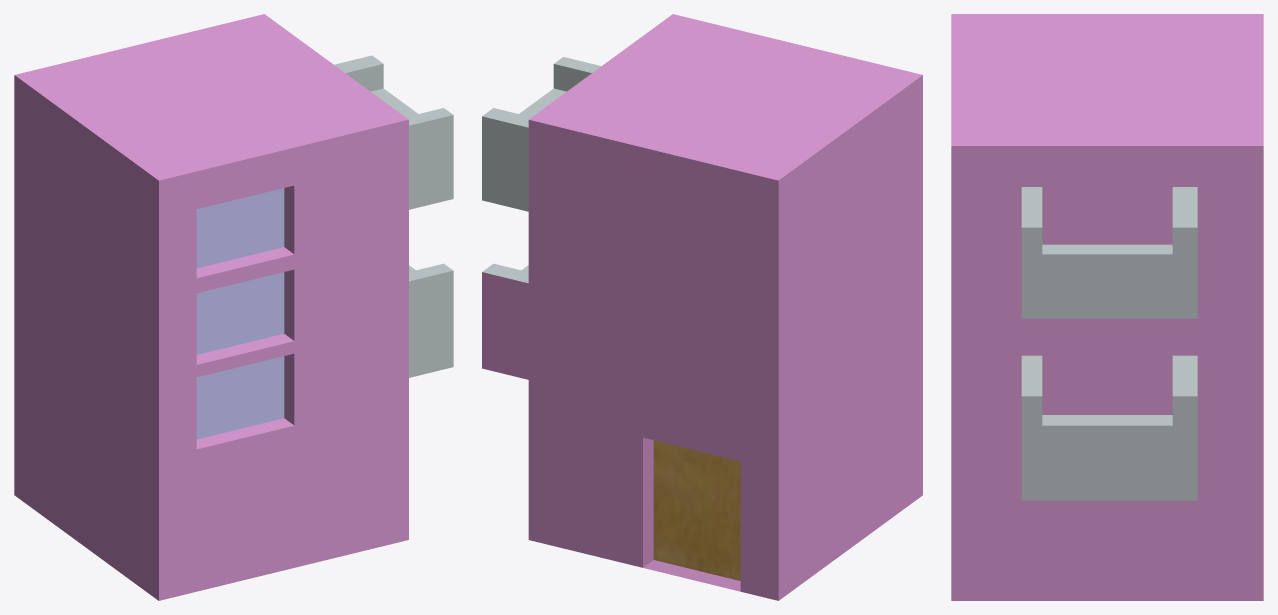
The model's file is house_cartoon_4.glb.
3 views of the same model, side by side, from view 1: azimuth 30°, elevation 25°; view 2: azimuth 150°, elevation 25°; view 3: azimuth 270°, elevation 25° (orthographic). The views are drawn at different scales.
Visible parts, largest first — view 1: Cube; view 2: Cube; view 3: Cube.
Boxes of the visible parts, <box> form: Cube: <box>14,14,453,600</box>; Cube: <box>482,14,922,600</box>; Cube: <box>951,14,1263,600</box>.
Bounding box in the file's own units: 2.62 × 3.21 × 2.
Materials: 4 (1 with a texture image).
